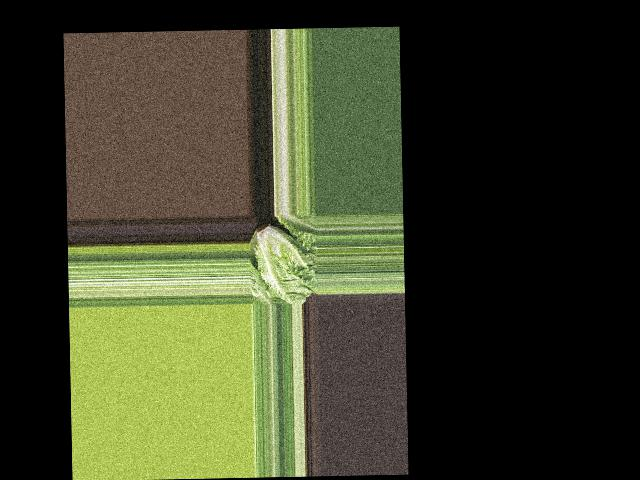lettuce: (248, 218, 313, 304)
